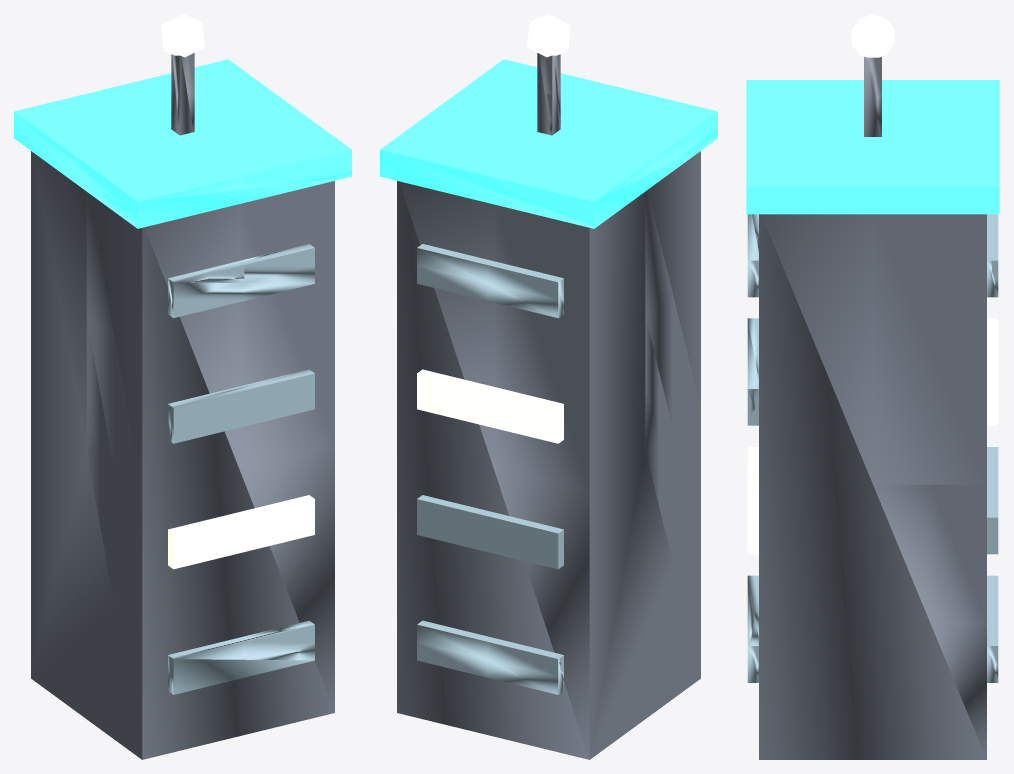
File: tower.glb
3 views of the same model, side by side, from view 1: azimuth 30°, elevation 25°; view 2: azimuth 150°, elevation 25°; view 3: azimuth 270°, elevation 25° (orthographic). The views are drawn at different scales.
Parts seen in each view (by area): view 1: MetroTower; view 2: MetroTower; view 3: MetroTower.
Boxes of the visible parts, x1,y1,x2,y2 form: MetroTower: (14,14,351,759); MetroTower: (380,14,717,759); MetroTower: (746,14,999,759).
Bounding box in the file's own units: 1 × 3.04 × 1.
